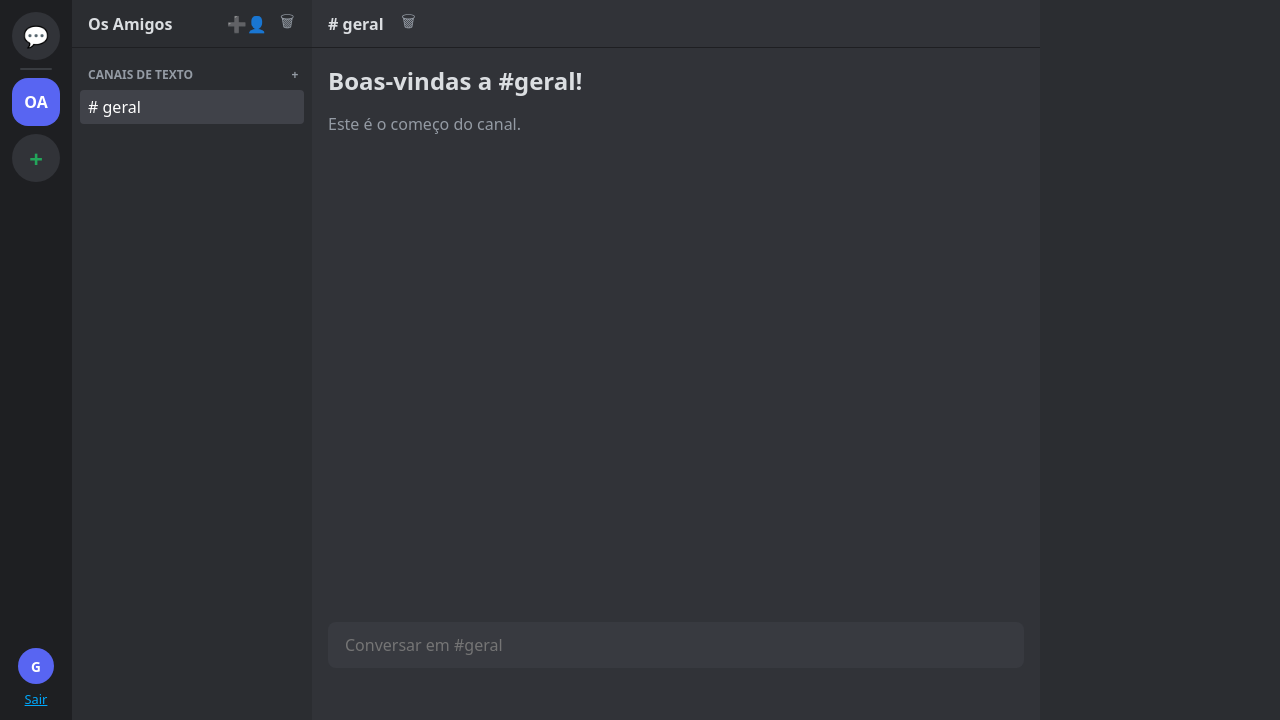
Test case: enviar mensagem › aparece na hora como pendente e é confirmada sem duplicar
Type "  olá, pessoal  " into the text box named "Mensagem para #geral" at (676,645), box x1=328 y1=622 x2=1024 y2=668
Then press Enter
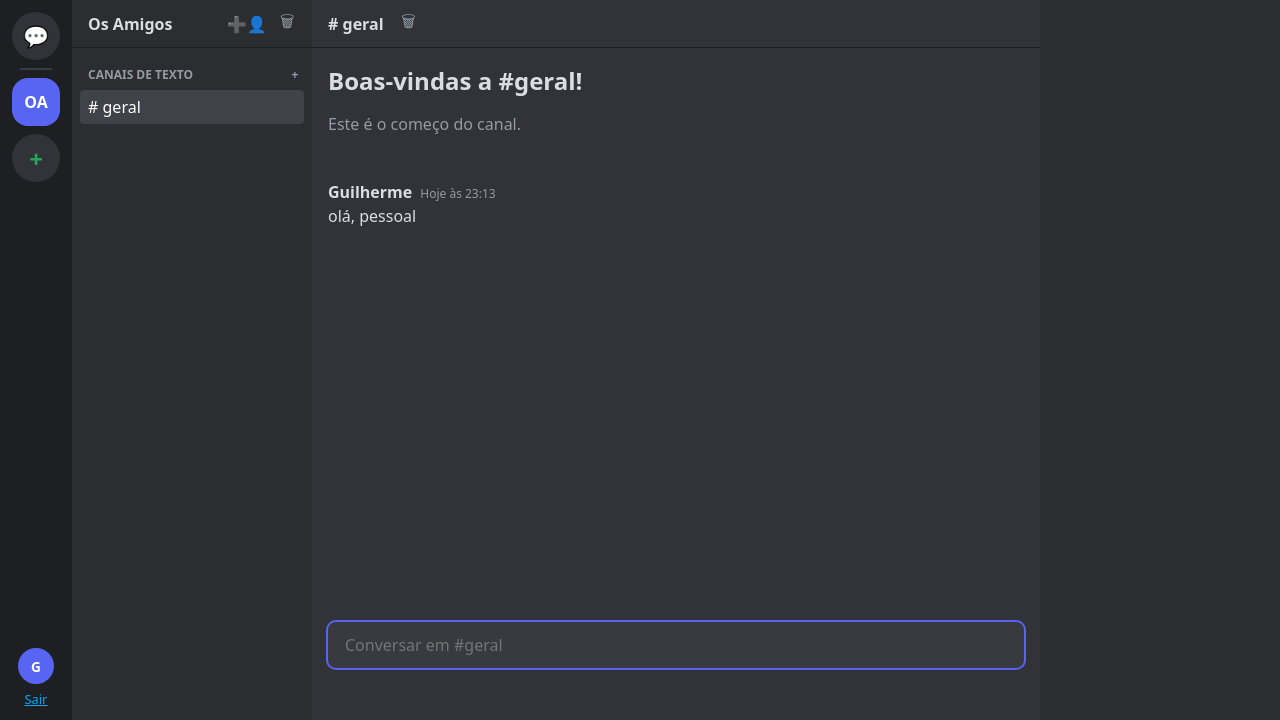
Expected: the text "olá, pessoal" is shown once, x1=328 y1=205 x2=416 y2=227
